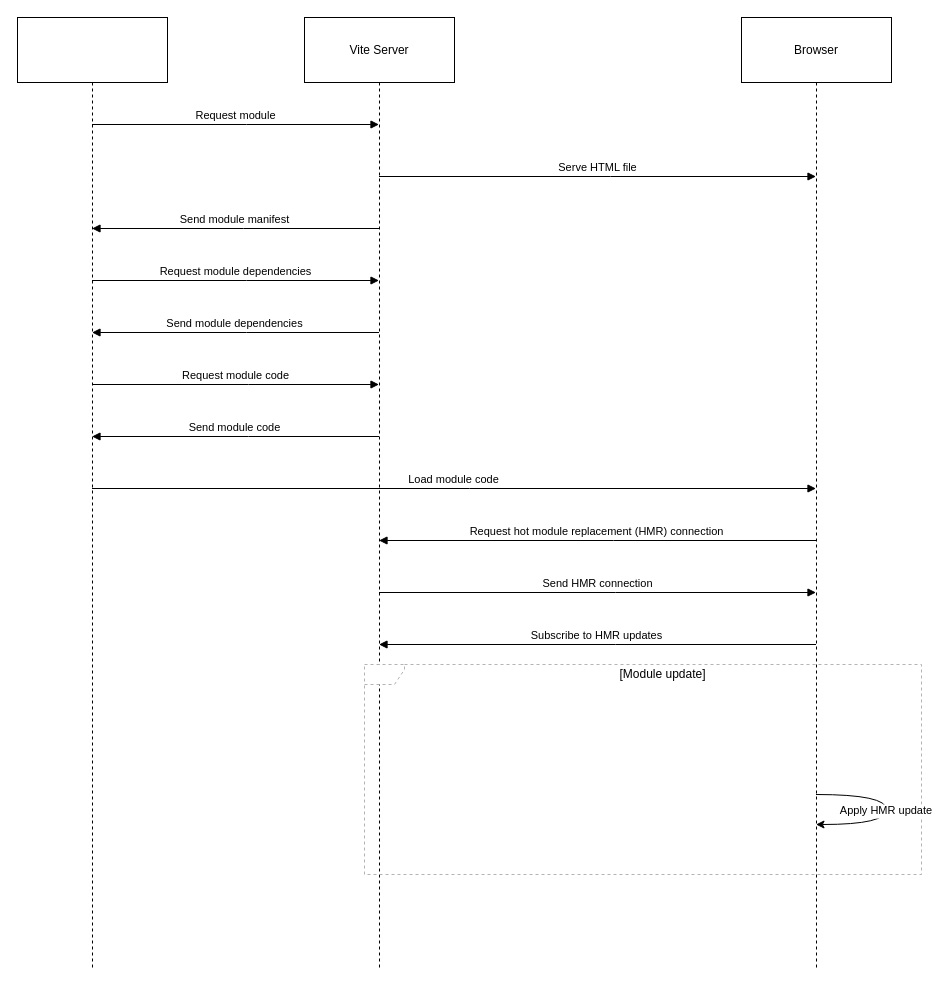
Some shapes in this 951 by 987 pixel diagram are drawn without their labels. Each missing label, with the box of its shape:
Client: (16, 16, 168, 970)
loop: (364, 664, 922, 874)
